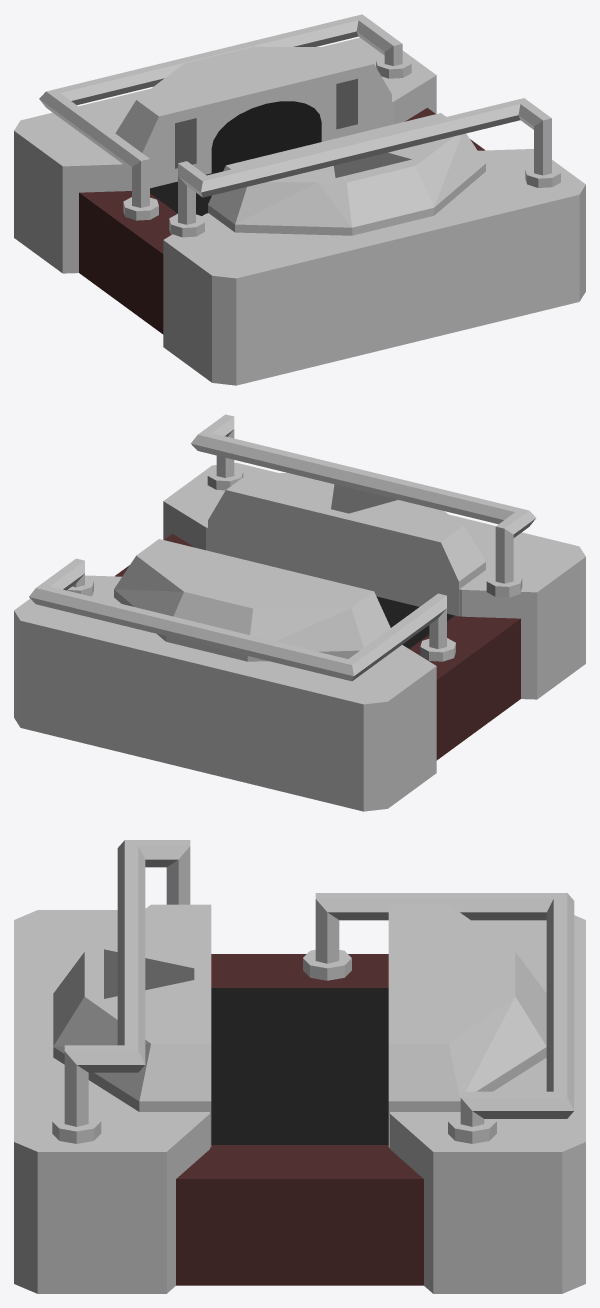
File: vce_pumpjack_base.obj
3 renders of one model, top to bottom at view 1: azimuth 30°, elevation 25°; view 2: azimuth 150°, elevation 25°; view 3: azimuth 270°, elevation 25°, orthographic. The views are drawn at different scales.
Size of the model in its own units: 2.92 by 1.28 by 2.92.
